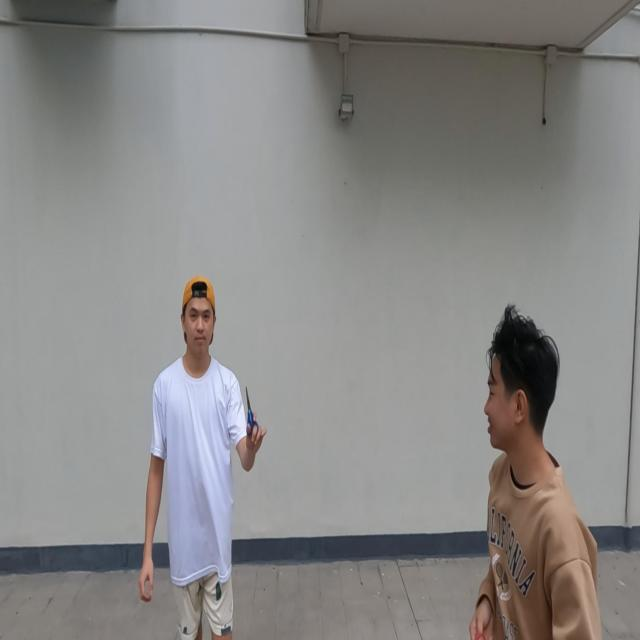scissor: (244, 386, 259, 438)
